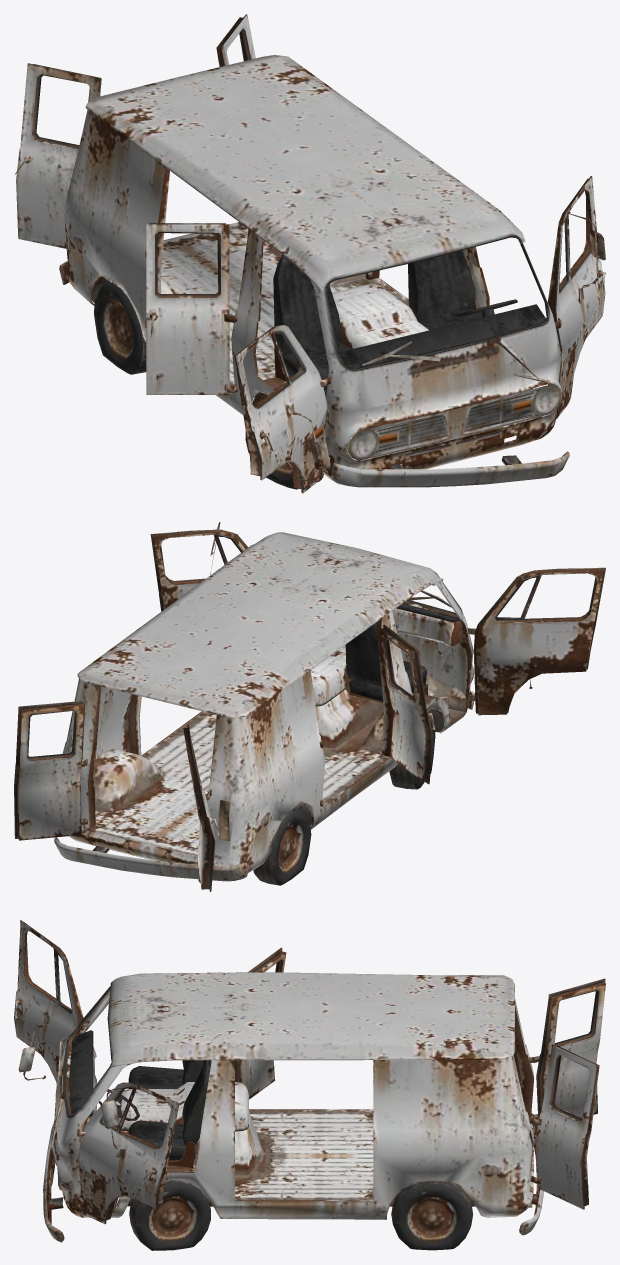
The model's file is van_d_grey.glb.
The picture shows the model from 3 angles, top to bottom: view 1: azimuth 30°, elevation 25°; view 2: azimuth 150°, elevation 25°; view 3: azimuth 270°, elevation 25°; orthographic projection. The views are drawn at different scales.
Parts seen in each view (by area): view 1: van_d_LOD0; view 2: van_d_LOD0; view 3: van_d_LOD0.
Boxes of the visible parts, box(x1,y1,x2,y2) form: van_d_LOD0: box(15, 14, 605, 493); van_d_LOD0: box(14, 522, 605, 891); van_d_LOD0: box(14, 920, 605, 1250).
Bounding box in the file's own units: 4.29 × 2.17 × 5.86.
1 material, 1 textured.
